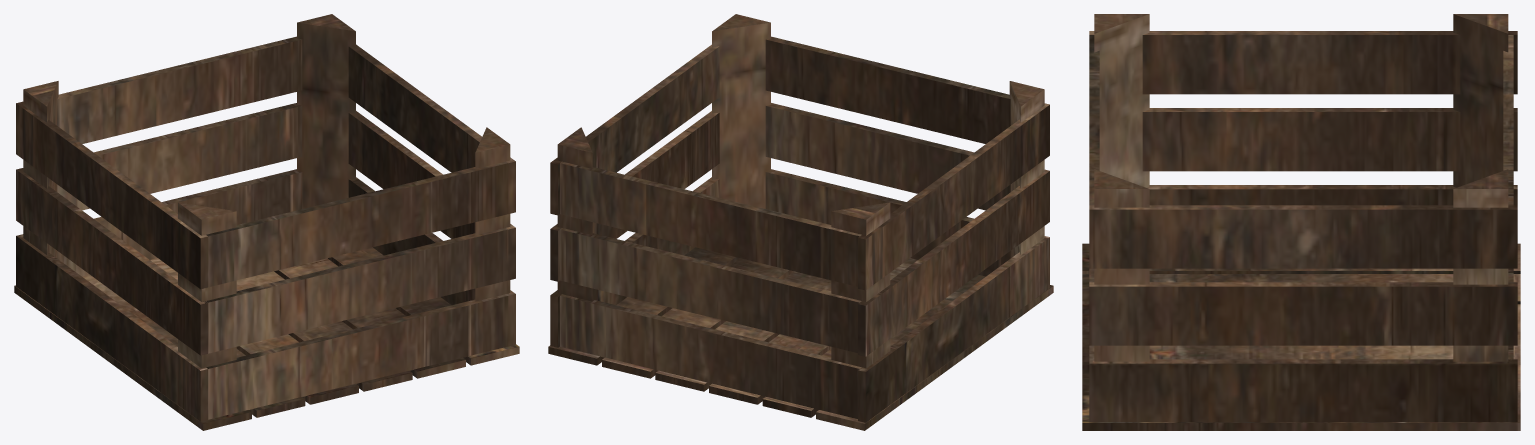
File: old_crate.fbx
The picture shows the model from 3 angles, left to right: view 1: azimuth 30°, elevation 25°; view 2: azimuth 150°, elevation 25°; view 3: azimuth 270°, elevation 25°; orthographic projection. The views are drawn at different scales.
Parts seen in each view (by area): view 1: Old Crate; view 2: Old Crate; view 3: Old Crate.
Part boxes in pixels (box(x1,y1,x2,y2)): Old Crate: box(14, 14, 519, 430); Old Crate: box(548, 14, 1053, 430); Old Crate: box(1082, 14, 1520, 430).
Size of the model in its own units: 0.9168 by 0.9477 by 0.5715.
